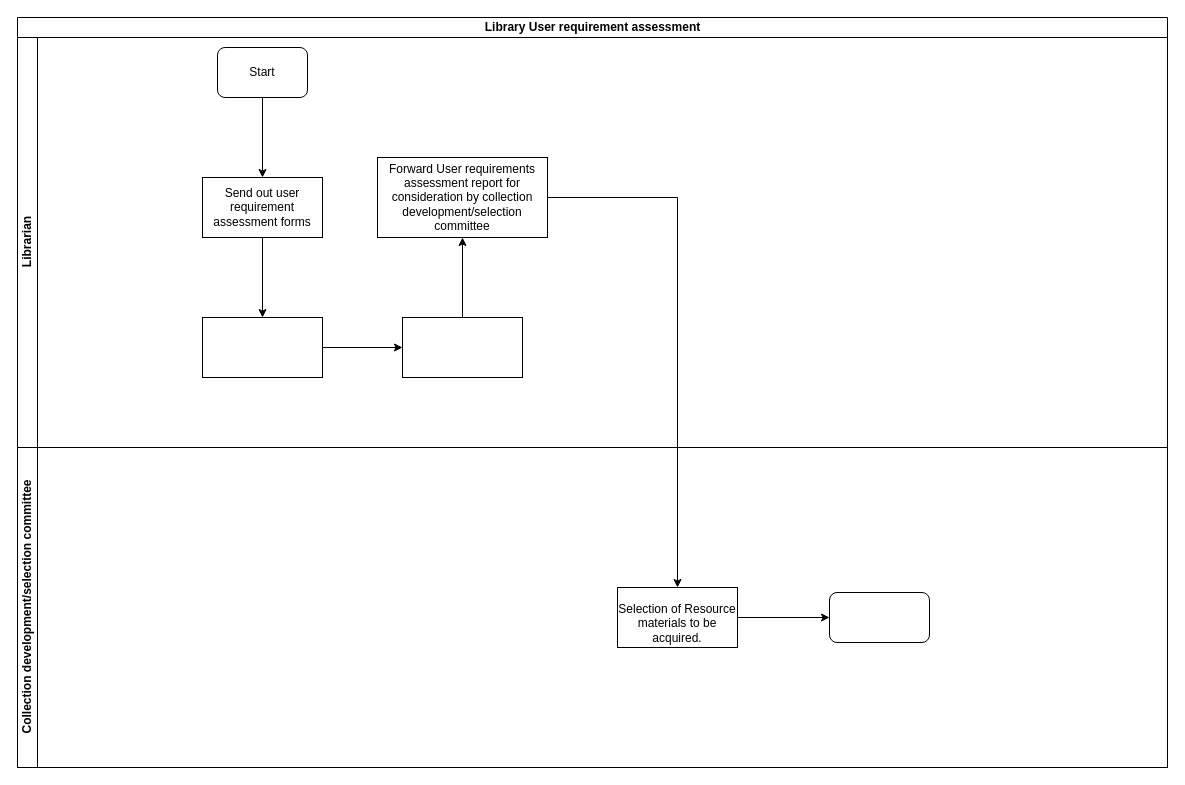
The diagram is 1185 pixels wide and 785 high, and some of its shapes have lost their labels. The shapes that lost their labels are listed below. From the top down, each one's centre as x and y in pixels, then its label:
the point at 262,347: Receive back user requirements feed back
the point at 462,347: Analyse feedback and prepare report
the point at 879,617: End
